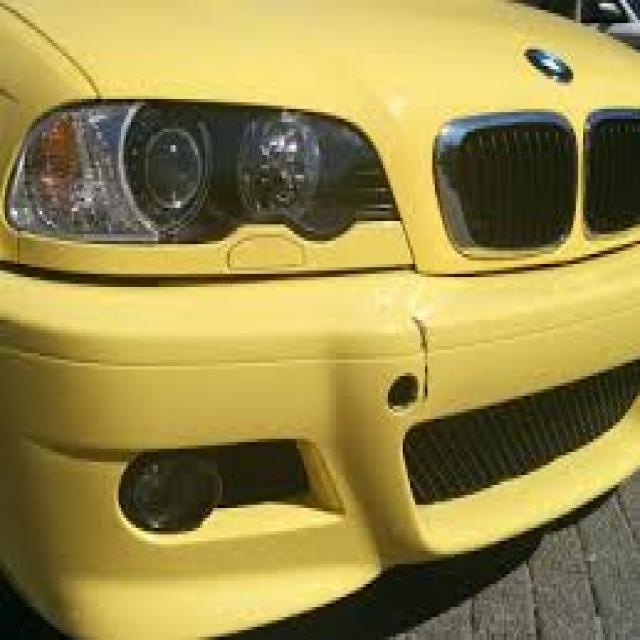minor: (374, 310, 482, 430)
